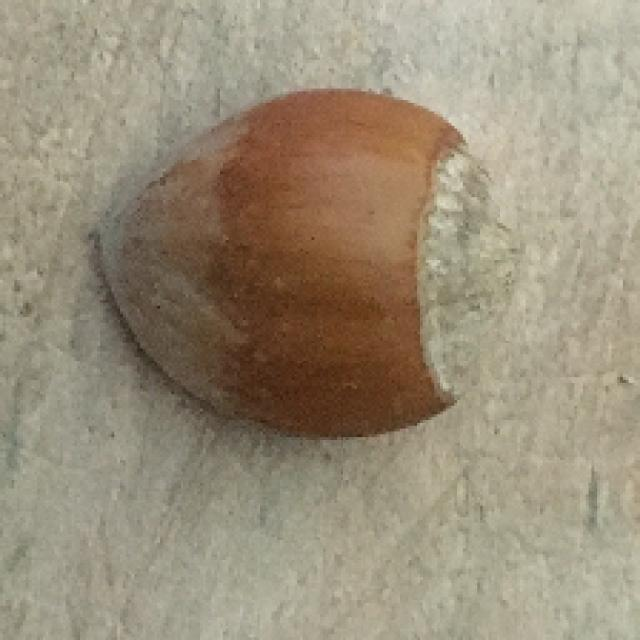qualityHazelnut: (97, 87, 499, 443)
